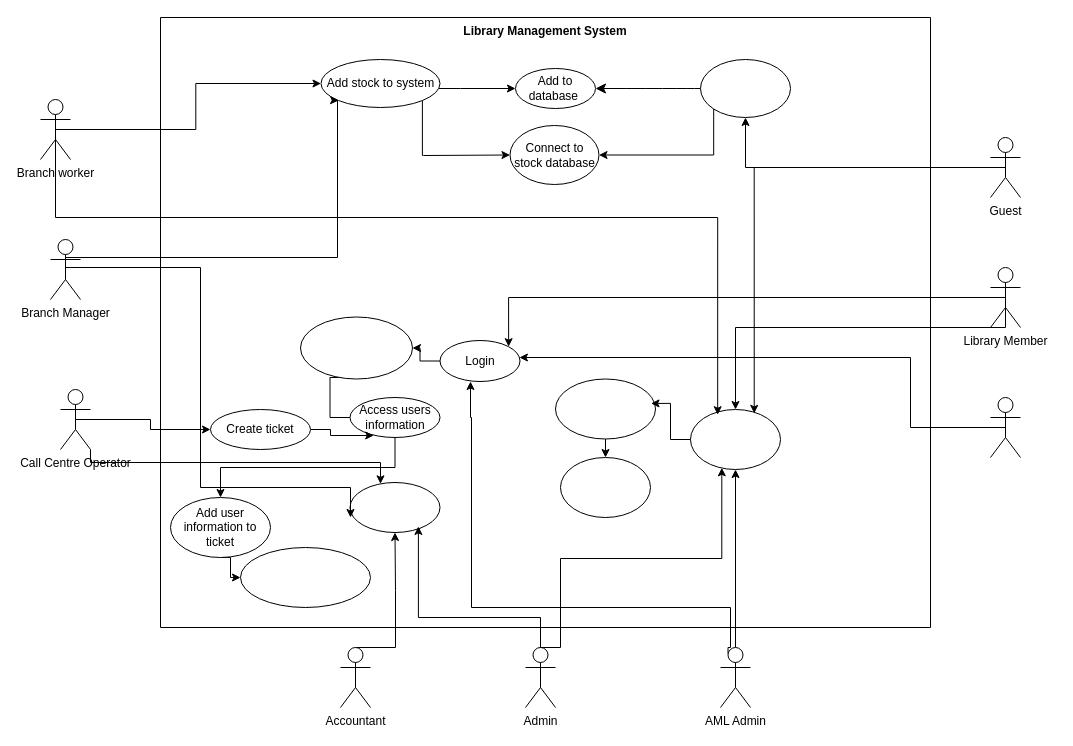
Image size: 1073x746. Some labels were removed from this diagram. The centre of each missing label's shape, as x and y in pixels:
"Add ticket to users account" goes at (305,577).
"Check ticket" goes at (394,507).
"Create New customer" goes at (745,88).
"Explore Media" goes at (735,439).
"Extend Reservation" goes at (605,487).
"Purchase Manager" goes at (1005,427).
"Reserve Media" goes at (605,408).
"Validate user login information" goes at (356,347).
